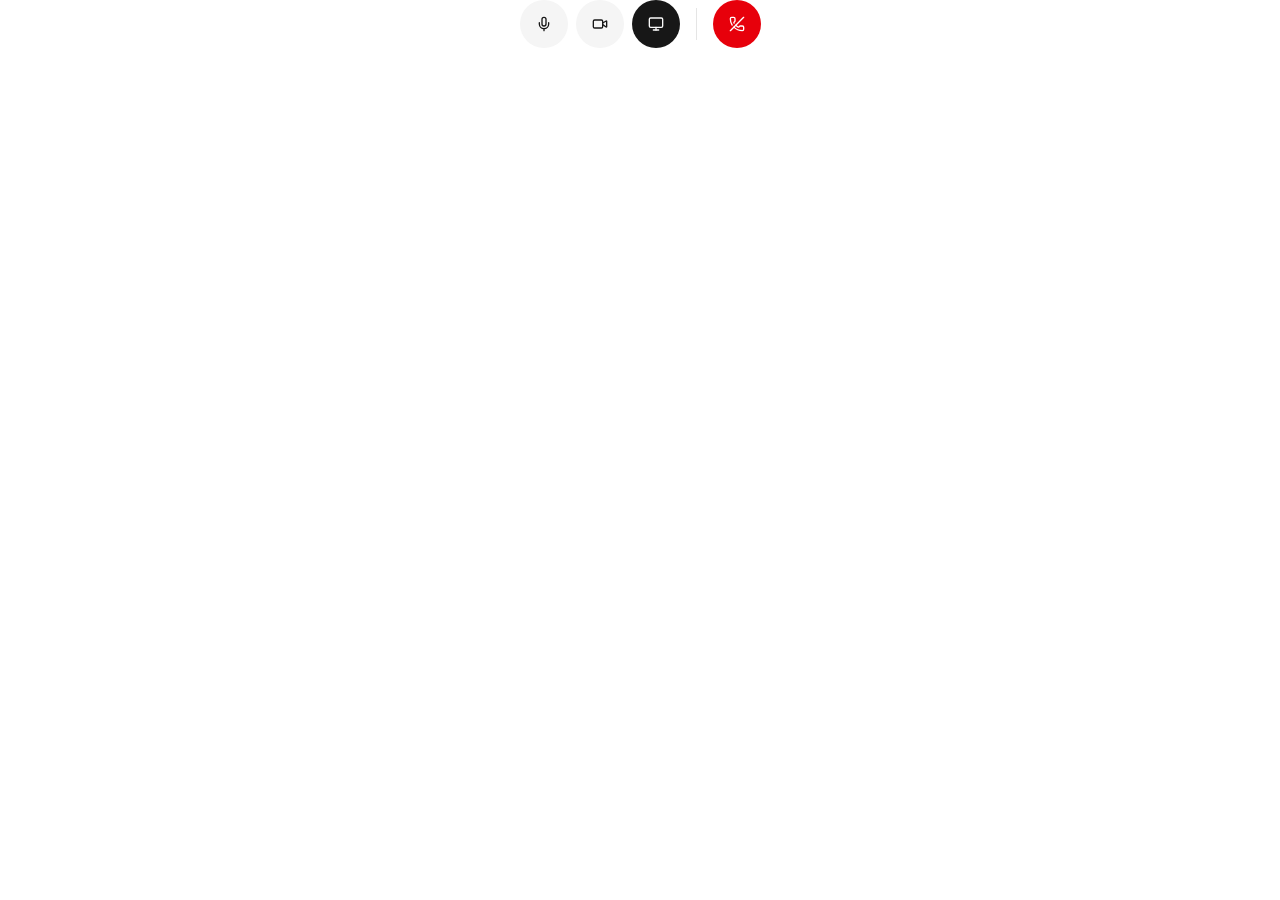
Test: Leave Confirmation Dialog › Dialog Display › shows confirmation dialog when leave button is clicked
What coordinates should you click on to do the following:
click the button named "leave meeting"
I would click on:
 (736, 24)
Its box is [712,0,760,48].
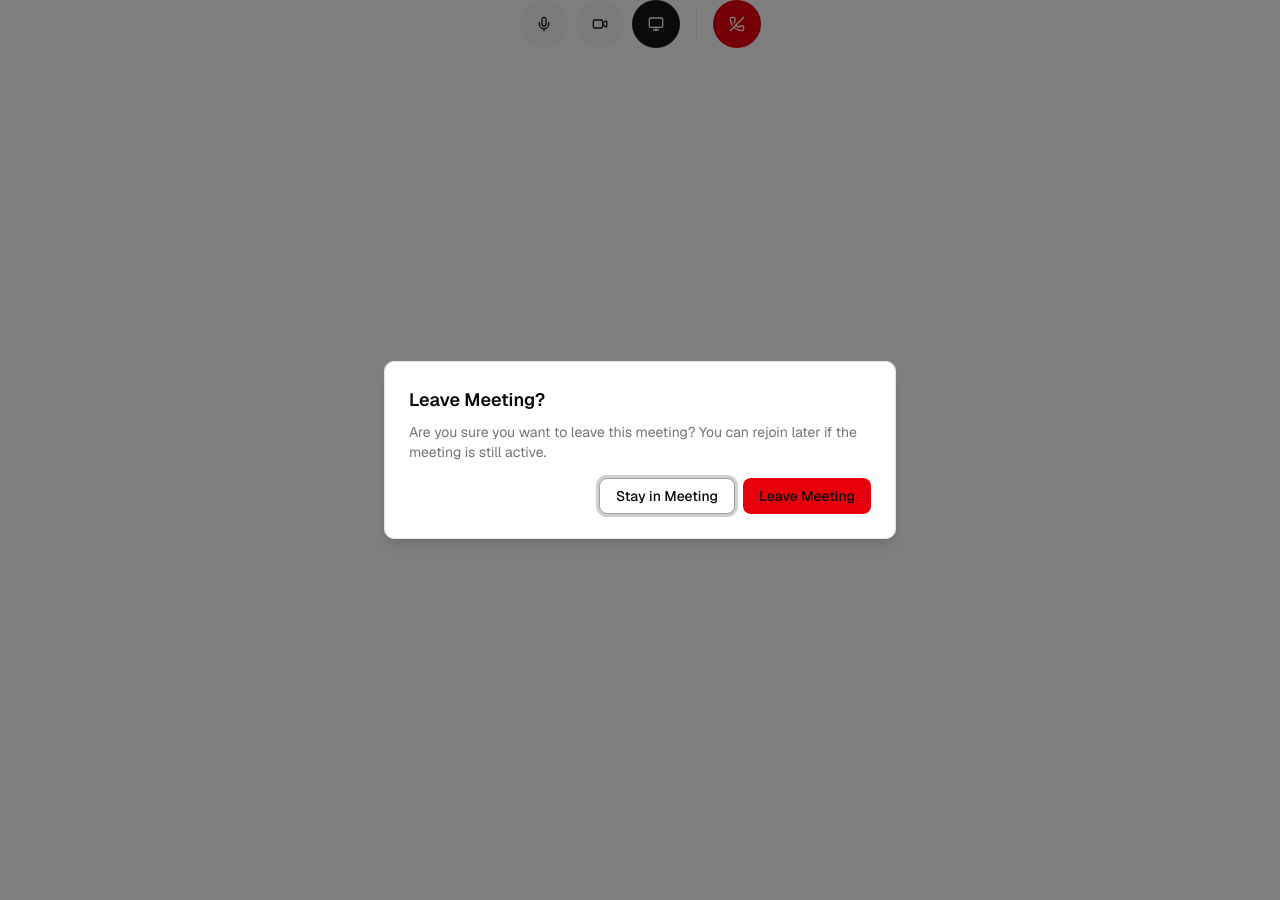
Now the heading "Leave Meeting?" is shown, box [409,388,545,411]
